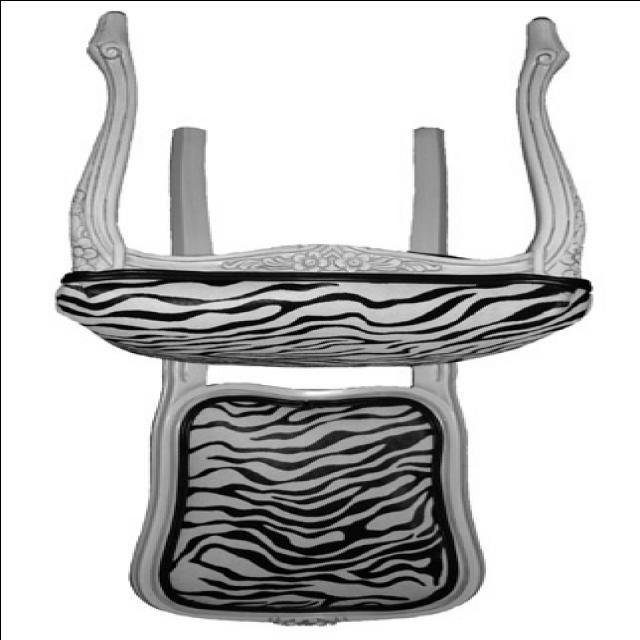chair: (54, 9, 592, 625)
